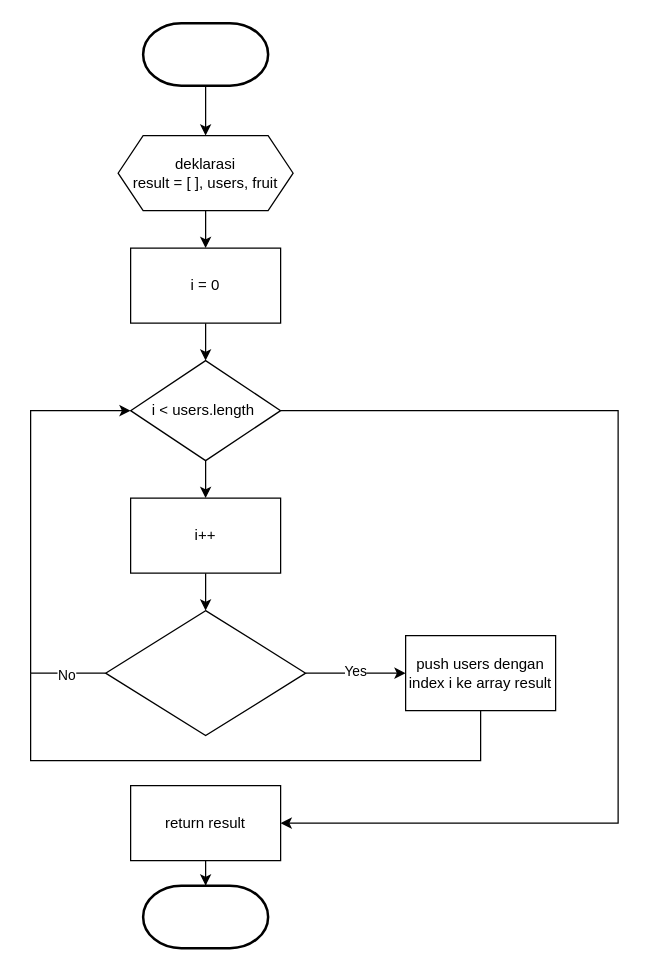
Some shapes in this 650 by 970 pixel diagram are drawn without their labels. Each missing label, with the centre of its shape:
"End" goes at [205,916].
"favorite fruit users[i] == value variabel fruit" goes at [205,672].
"Start" goes at [205,53].
